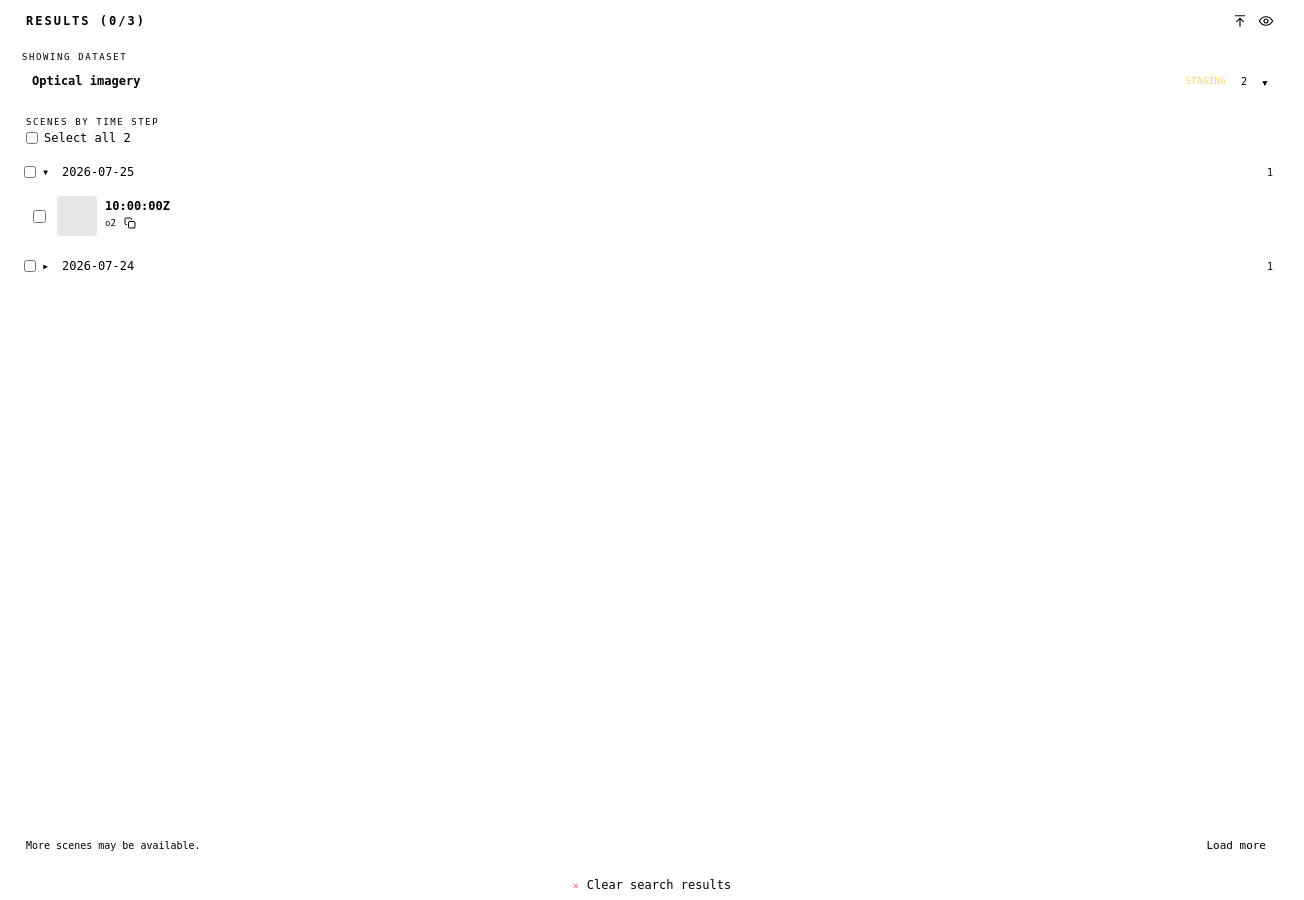
Test case: ResultsPanel "Load more" and the fallback (M3-10b) › belongs to the dataset whose source has pages: another dataset does not offer it
expect the button "Load more" is shown: met, box [1194,833,1278,858]
Click the button with class "dataset-select-box". click: (86, 81)
box: [22,67,1282,95]
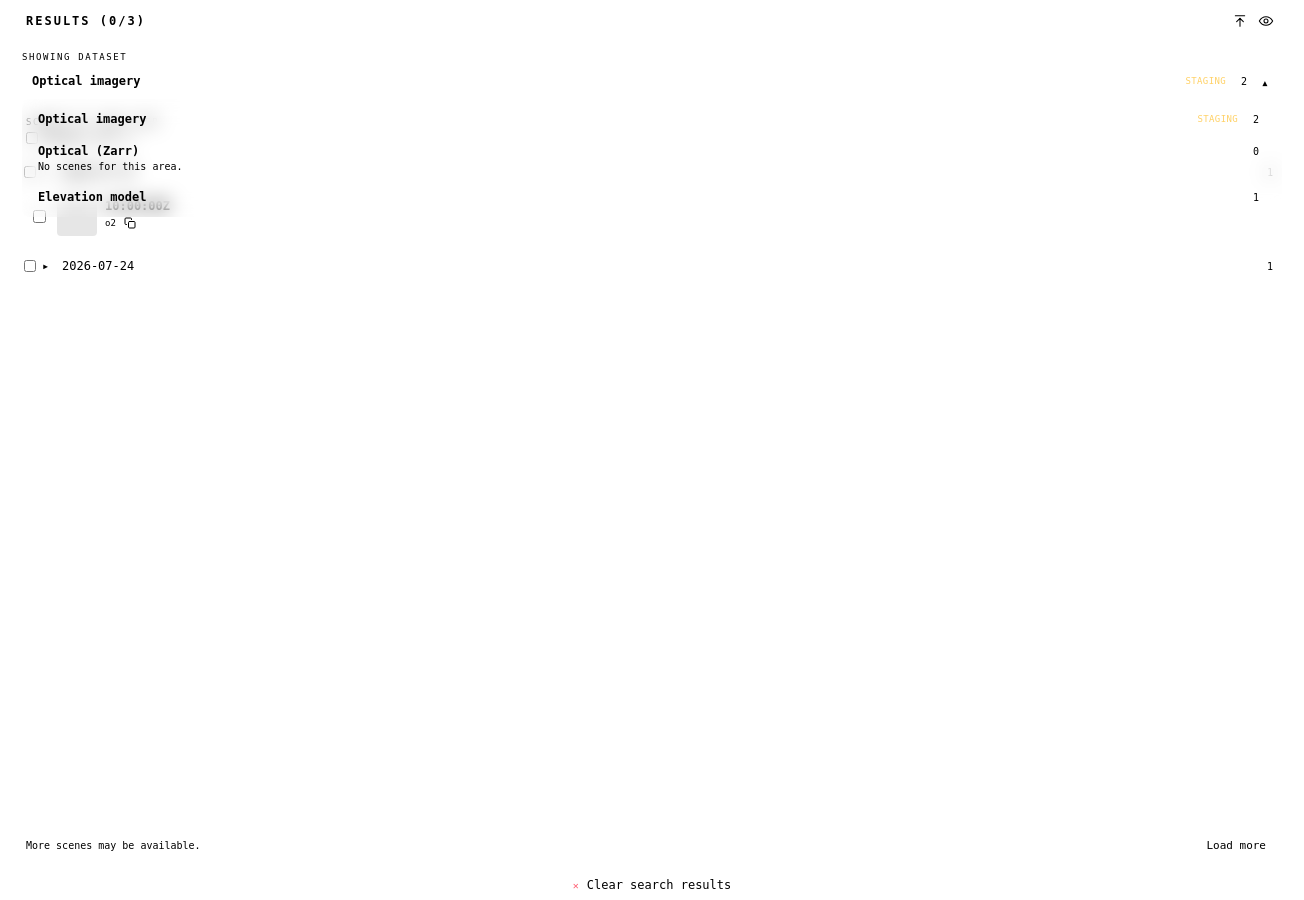
Click the option with class "dataset-select-option" showing "Elevation model 1". click: (92, 197)
box: [28,183,1276,211]
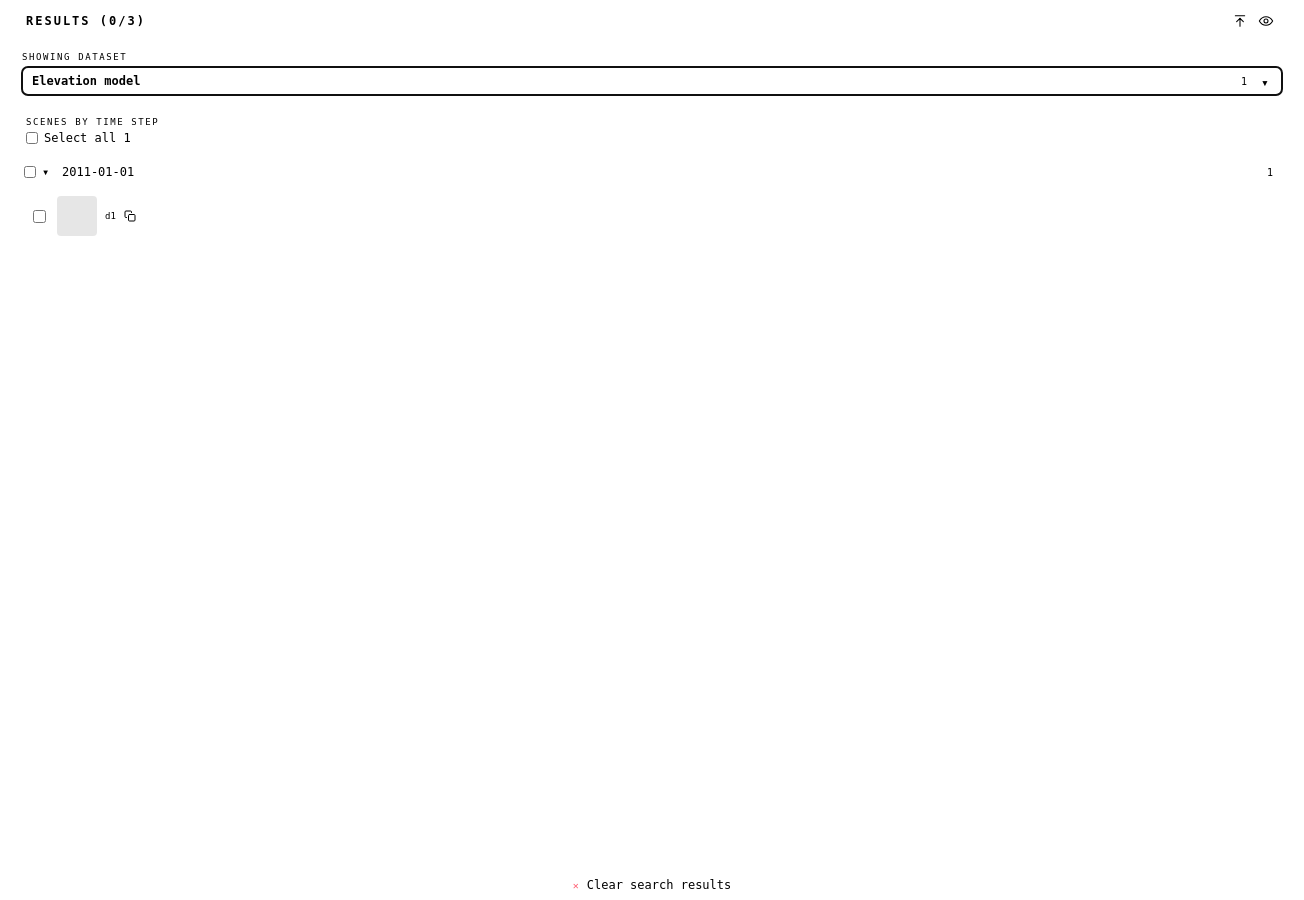
expect the element with class "load-more" is gone: met
